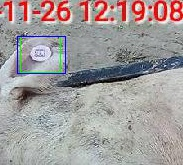text: (20, 36, 60, 72)
